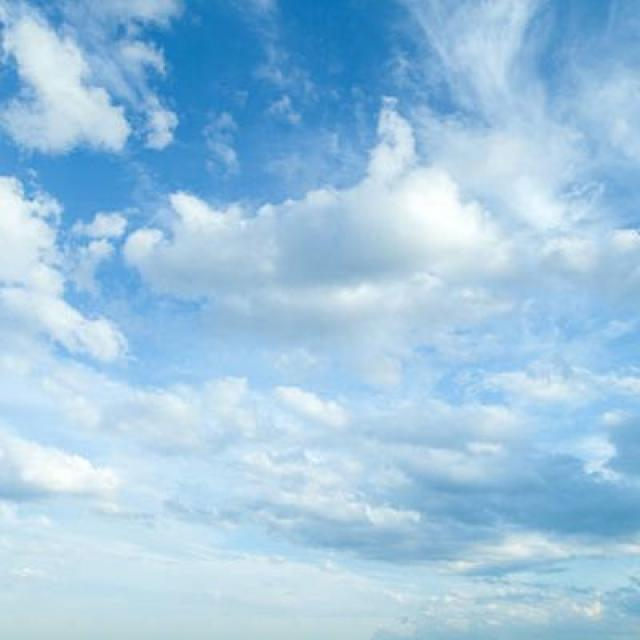Cu: (1, 29, 640, 568)
